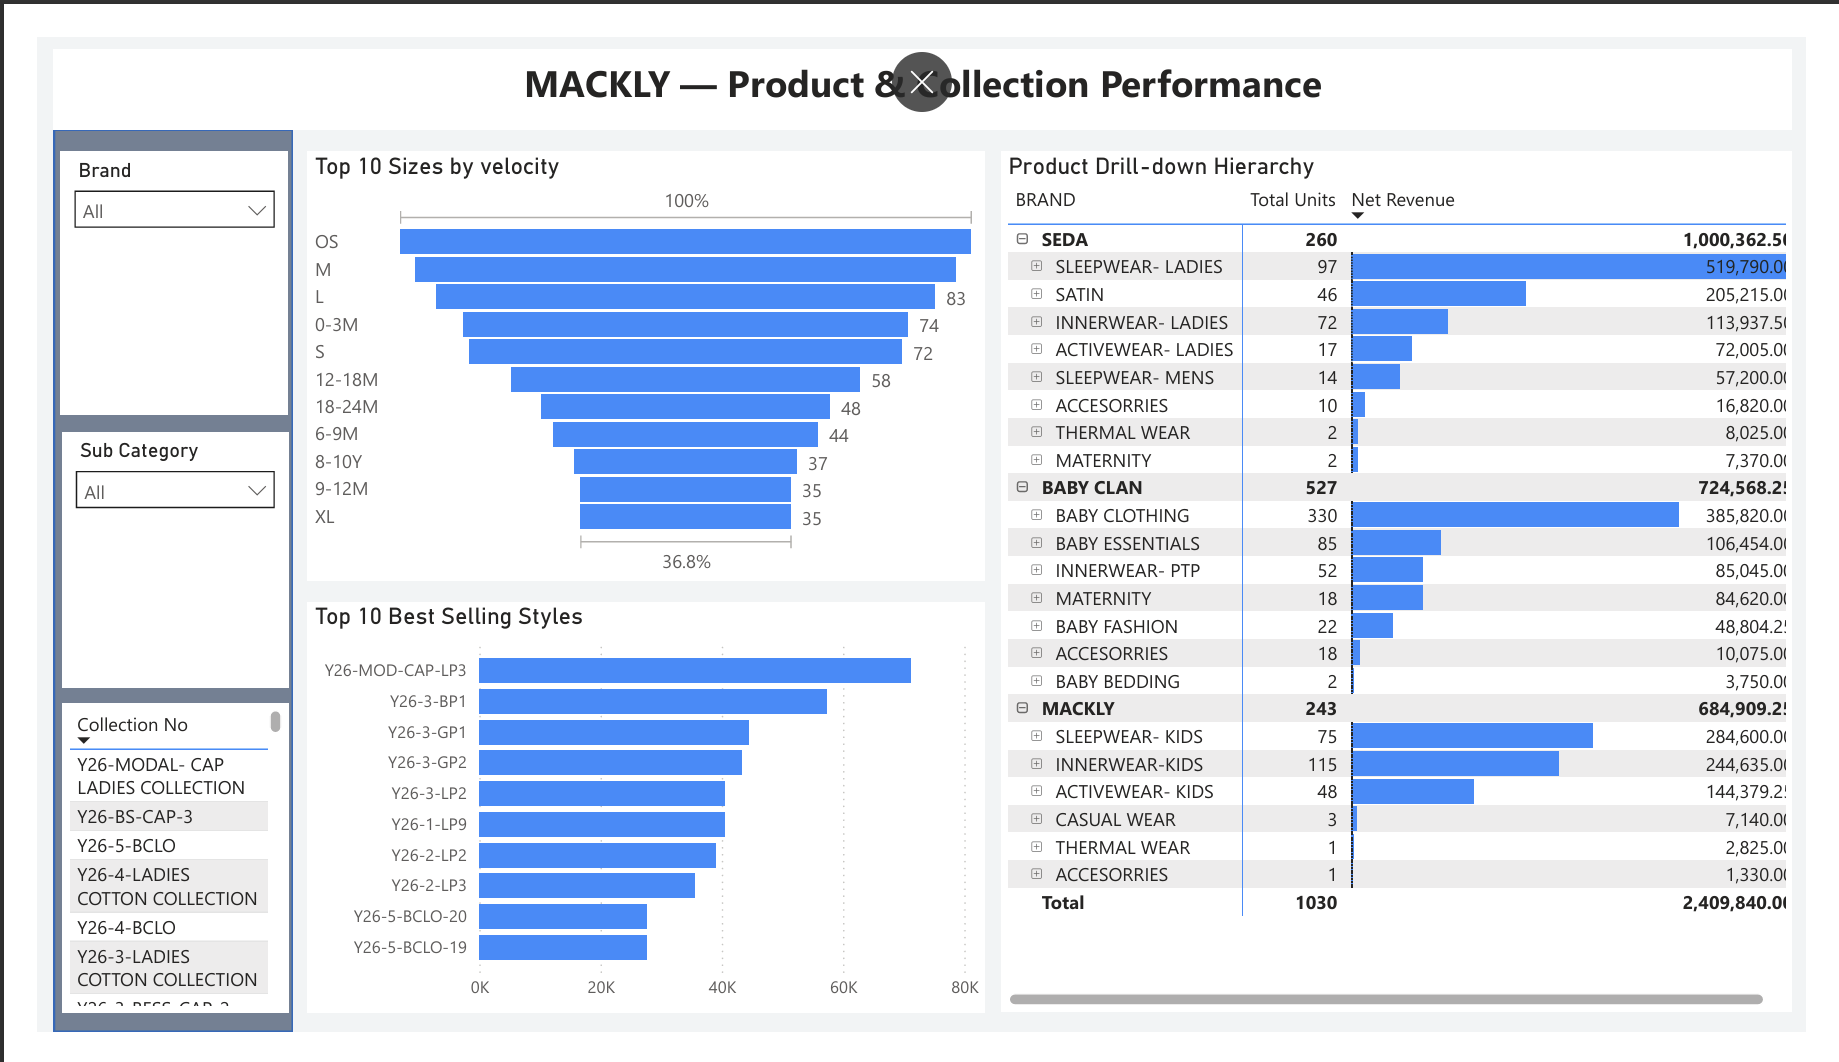

What the dashboard file says about the page in this screenshot:
{"tool":"powerbi","page":{"name":"Product and Brand Analytics","canvas":[1280,720],"ordinal":1},"visuals":[{"type":"shape","box":[12.3,67.5,173,652.8],"z":0},{"type":"slicer","fields":{"Values":["Data.BRAND"]},"box":[17.2,83.4,164.4,190.2],"z":1000},{"type":"slicer","fields":{"Values":["Data.SubCategory"]},"box":[18.4,285.9,163.2,185.3],"z":2000},{"type":"tableEx","fields":{"Values":["Data.CollectionNo"]},"box":[18.4,482.2,163.2,223.3],"z":3000},{"type":"funnel","title":"Top 10 Sizes by velocity ","fields":{"Category":["Data.SIZE"],"Y":["Sum(Data.QTY)"]},"box":[196.3,83.4,489.6,310.4],"z":4000},{"type":"clusteredBarChart","title":"Top 10 Best Selling Styles","fields":{"Category":["Data.StyleNo"],"Y":["Sum(Data.net sale)"]},"box":[196.3,408.6,489.6,296.9],"z":5000},{"type":"pivotTable","title":"Product Drill-down Hierarchy","fields":{"Rows":["Data.BRAND","Data.SubCategory","Data.ItemName"],"Values":["Sum(Data.QTY)","Sum(Data.net sale)"]},"box":[698.2,83.4,571.8,622.1],"z":6000},{"type":"textbox","box":[12.3,8.6,1257.7,58.9],"z":7000}]}

Visuals, with their boxes in screenshot pixels (x1, y1, x2, y2), scaled from the page's 1280x720 canvas onto the 1839x1062 screenshot:
shape: bbox=[18, 100, 266, 1061]
slicer - Data.BRAND: bbox=[25, 123, 261, 404]
slicer - Data.SubCategory: bbox=[26, 422, 261, 695]
tableEx - Data.CollectionNo: bbox=[26, 711, 261, 1041]
"Top 10 Sizes by velocity " funnel: bbox=[282, 123, 985, 581]
"Top 10 Best Selling Styles" clusteredBarChart: bbox=[282, 603, 985, 1041]
"Product Drill-down Hierarchy" pivotTable: bbox=[1003, 123, 1825, 1041]
textbox: bbox=[18, 13, 1825, 100]
